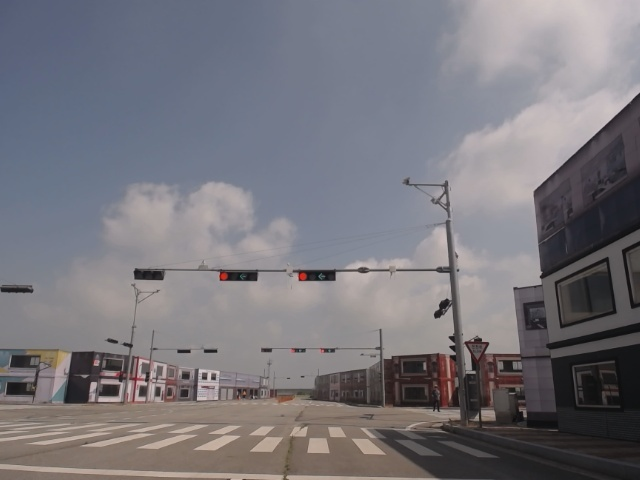left_green_4: (298, 271, 336, 282), (219, 271, 258, 281)
